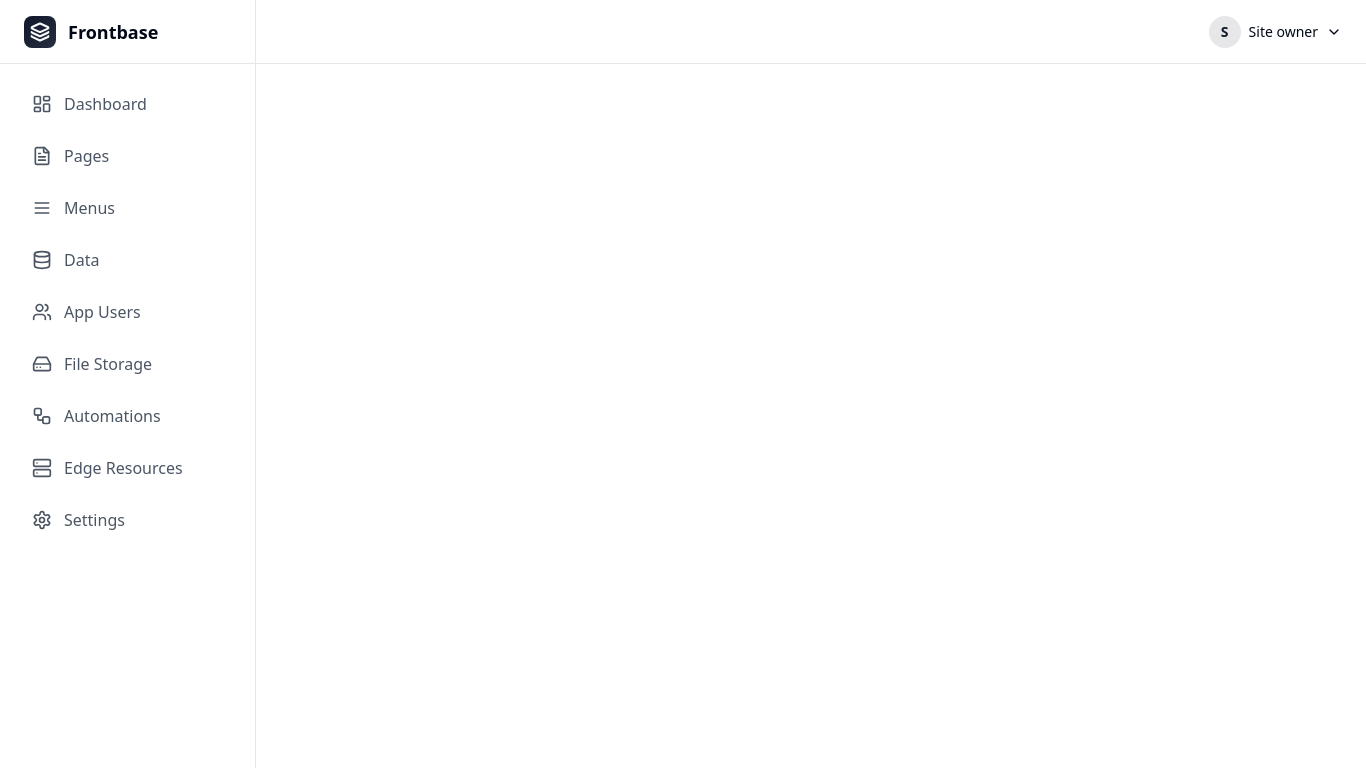
account menu › keeps appearance and logout inside the menu, with no sidebar logout
This screenshot has width=1366, height=768.
Expected: the text "Log out" is not shown
Expected: the text "Log Out" is not shown
Click the button with aria-label "Open account menu" at (1275, 32), box [1201,10,1350,54]
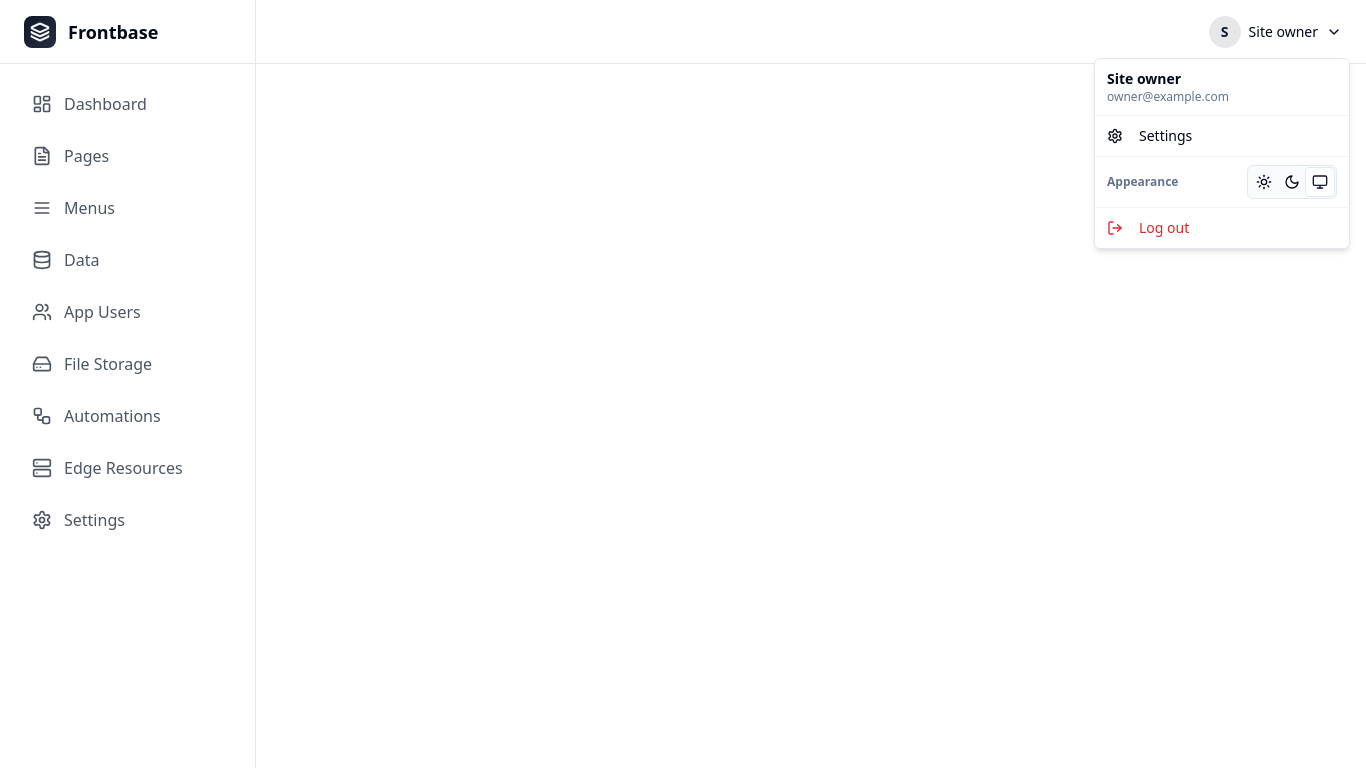
Now the menu item named "Light" is shown, box [1256,174,1272,190]
Now the menu item named "Dark" is shown, box [1284,174,1300,190]
Now the number of menu items "Log out" is 1, box [1107,218,1189,237]
